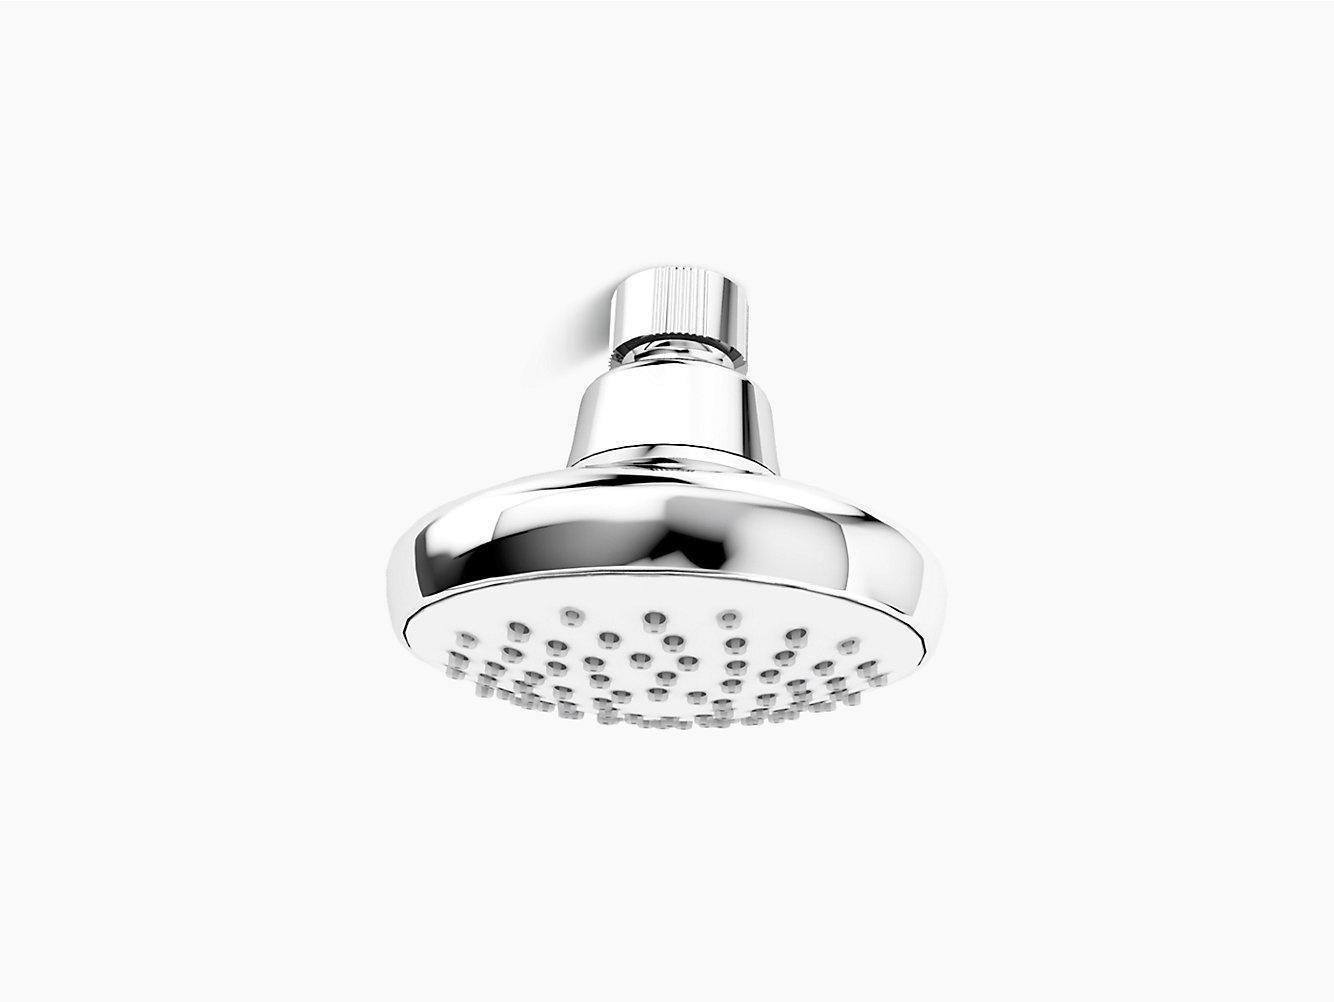Ducha: (357, 262, 947, 741)
